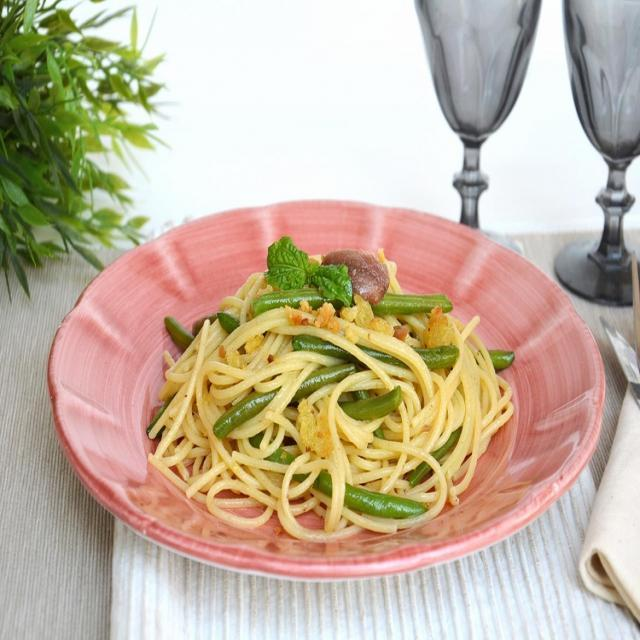Oil pasta: (122, 187, 570, 581)
